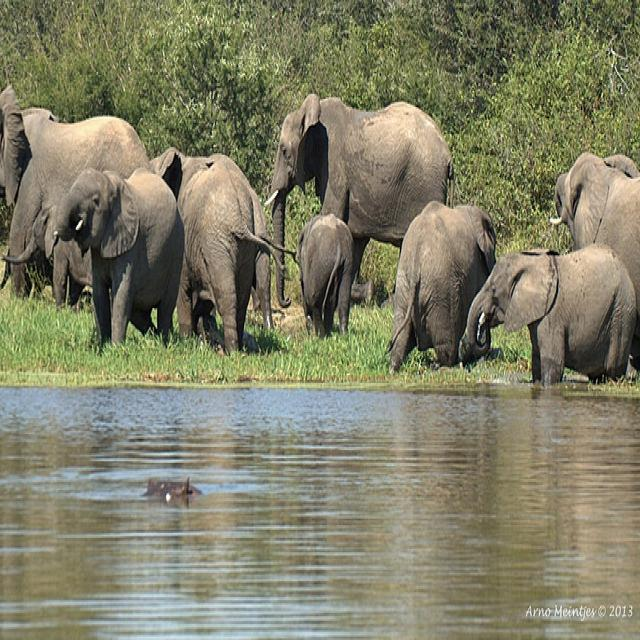Elephant: (264, 91, 454, 308), (148, 146, 295, 354), (0, 107, 150, 306), (459, 243, 637, 386), (52, 164, 185, 350), (383, 198, 497, 373), (295, 212, 354, 338), (0, 83, 59, 207)
